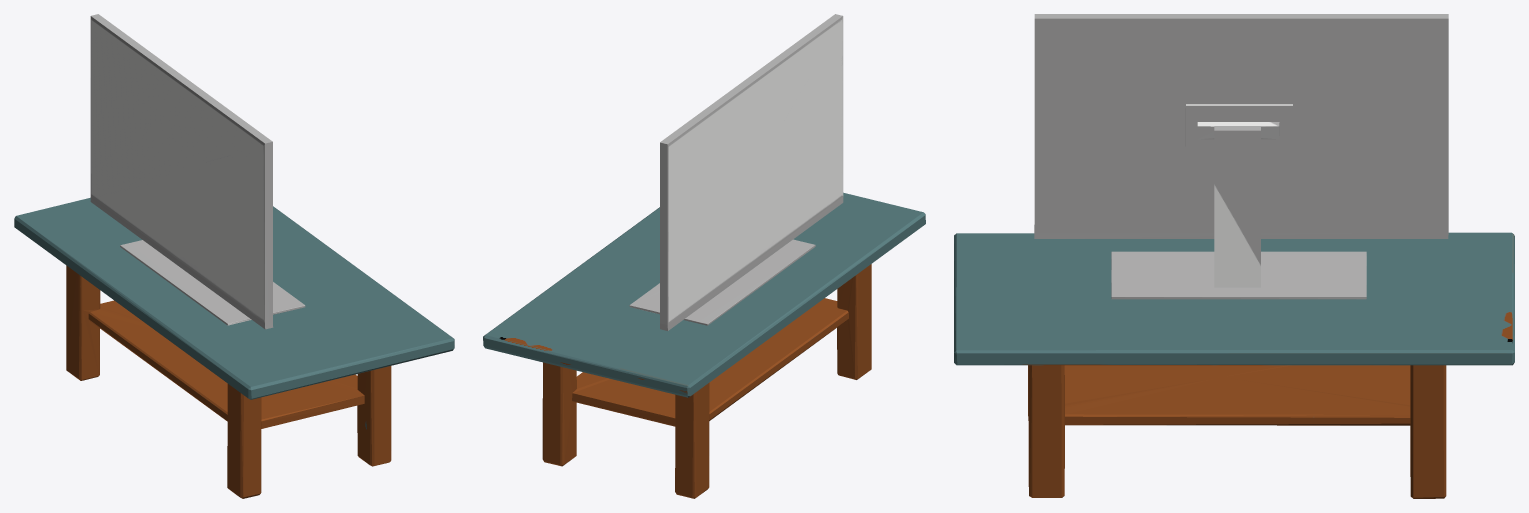
Rendered from tischMitTV.glb.
The picture shows the model from 3 angles, left to right: view 1: azimuth 30°, elevation 25°; view 2: azimuth 150°, elevation 25°; view 3: azimuth 270°, elevation 25°; orthographic projection. The views are drawn at different scales.
Visible parts, largest first — view 1: 281895_23_05_24_17_22_40_1, 281911_23_05_24_13_23_19; view 2: 281895_23_05_24_17_22_40_1, 281911_23_05_24_13_23_19; view 3: 281911_23_05_24_13_23_19, 281895_23_05_24_17_22_40_1.
Part boxes in pixels (x1,y1,x2,y2): 281895_23_05_24_17_22_40_1: (14,197,454,498); 281911_23_05_24_13_23_19: (90,14,305,329); 281895_23_05_24_17_22_40_1: (483,192,925,498); 281911_23_05_24_13_23_19: (629,14,843,330); 281911_23_05_24_13_23_19: (1034,14,1448,299); 281895_23_05_24_17_22_40_1: (954,232,1514,498).
Size of the model in its own units: 3.05 by 4.92 by 6.06.
Materials: 2 (2 with a texture image).
